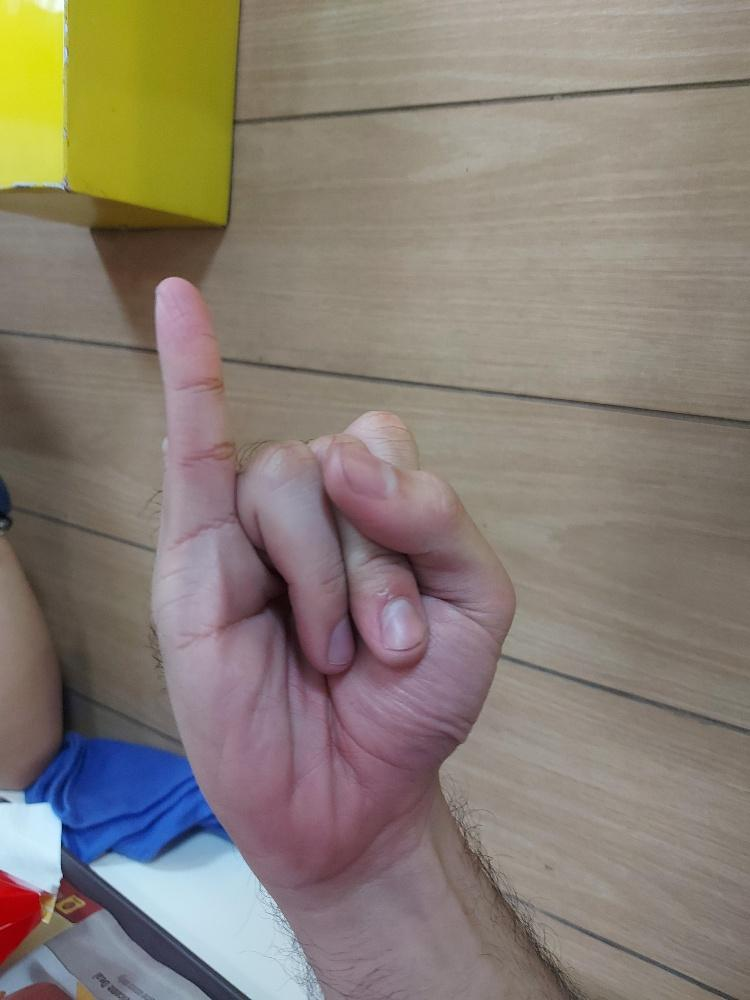i: (148, 271, 520, 892)
